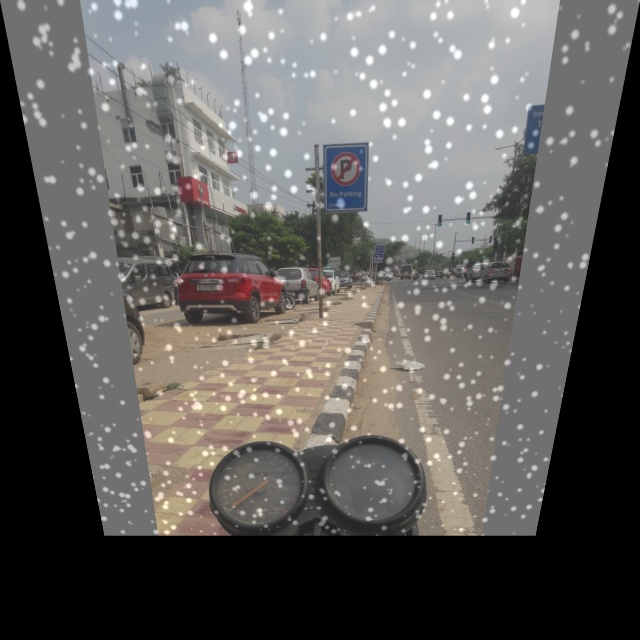No_Parking: (325, 143, 369, 190)
